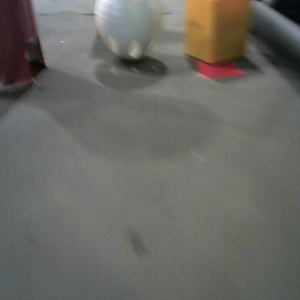middle: (1, 1, 49, 93)
